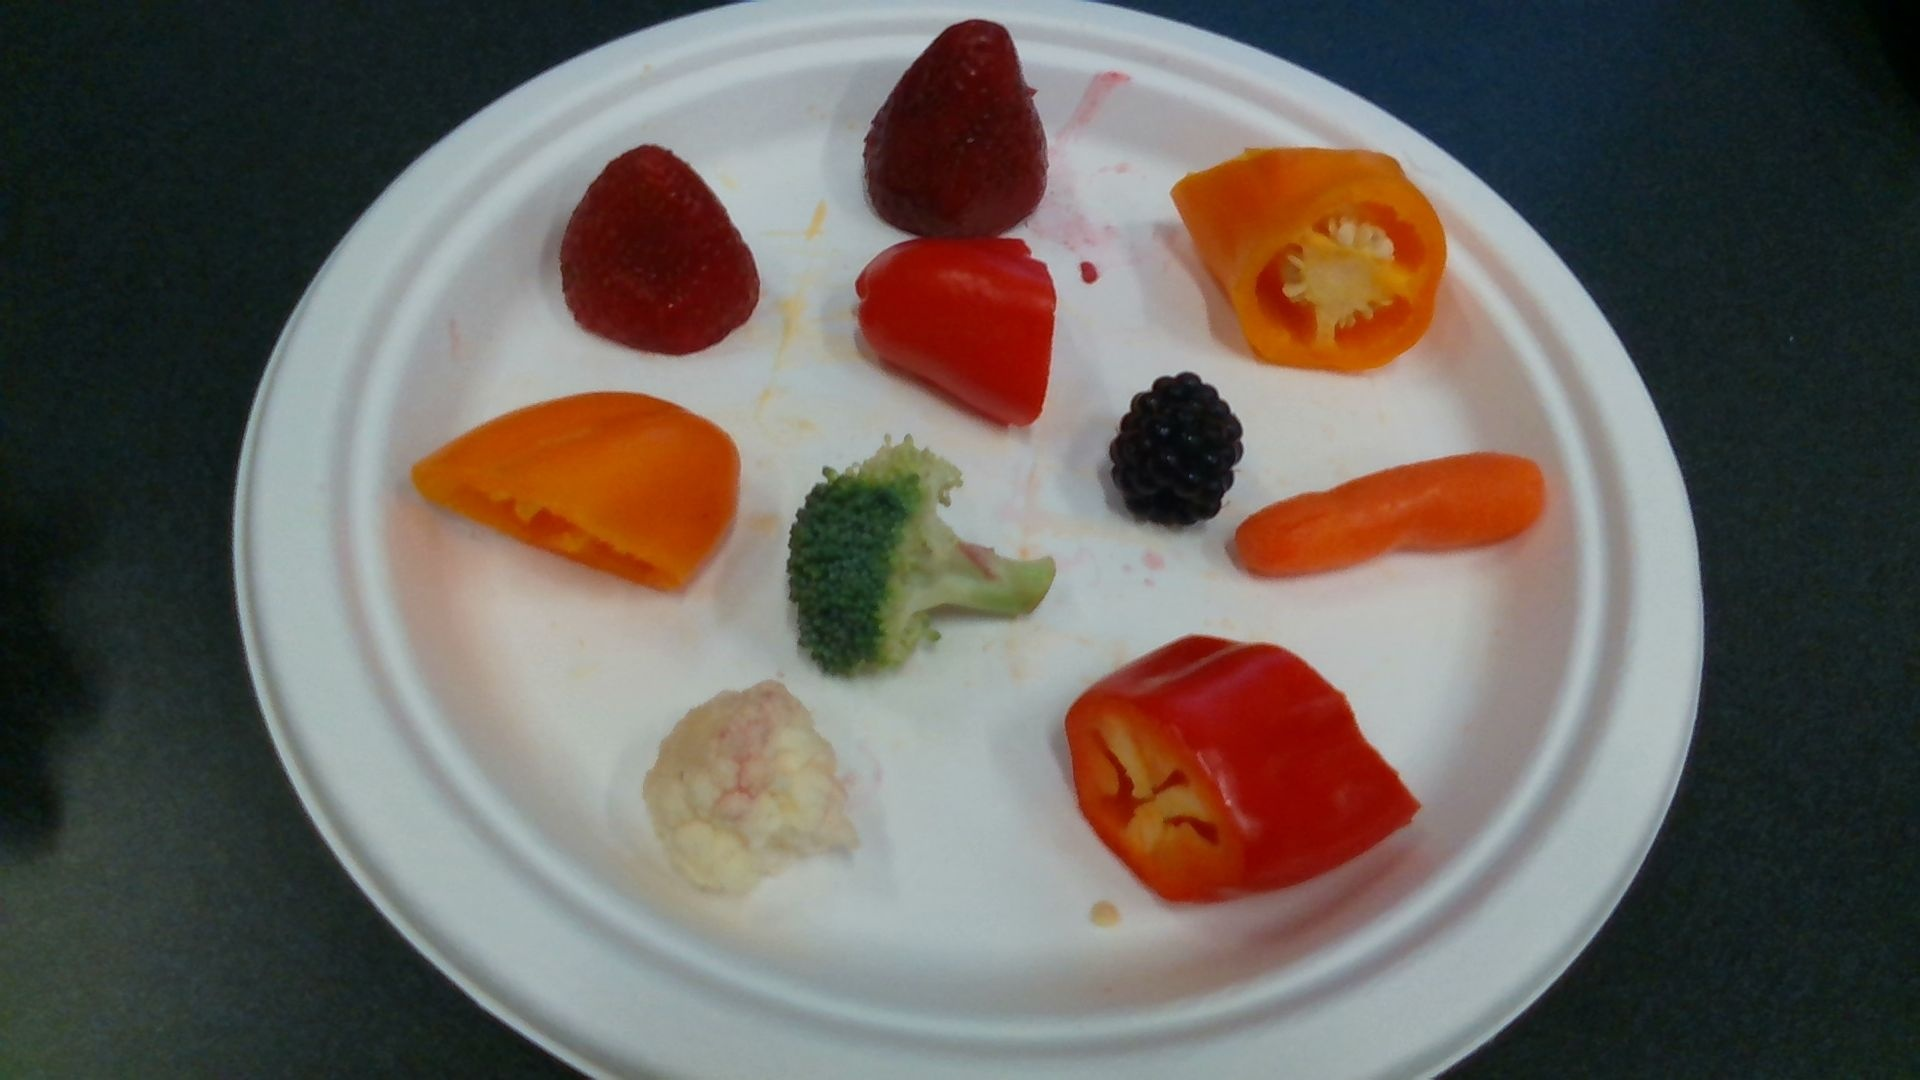bell_pepper: (1067, 636, 1418, 911), (1164, 152, 1440, 378), (417, 401, 744, 588), (857, 236, 1055, 430)
blackberry: (1110, 371, 1240, 525)
broccoli: (790, 440, 1050, 673)
carrot: (1240, 455, 1545, 575)
cauliflower: (645, 680, 855, 898)
strawberry: (562, 145, 757, 356), (865, 25, 1048, 237)
